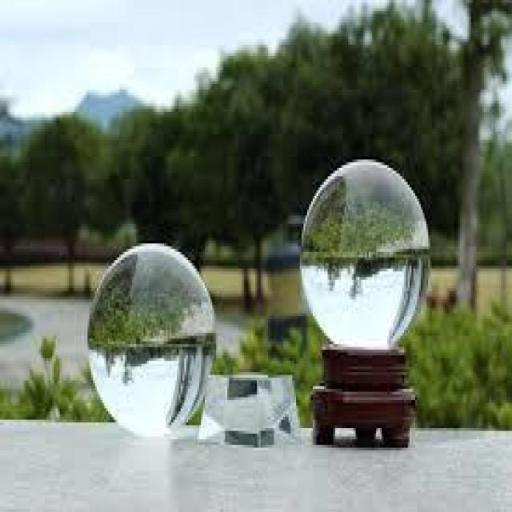glass: (84, 228, 217, 473), (292, 140, 430, 360), (195, 356, 303, 462)
